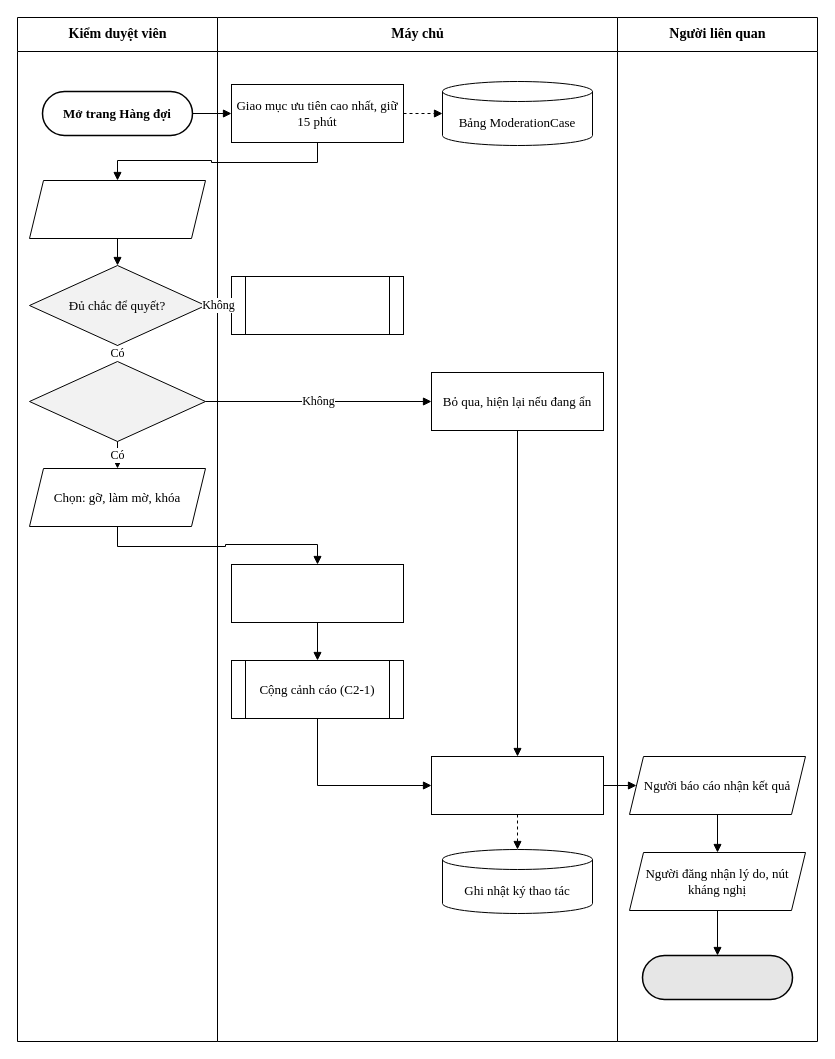
Some shapes in this 835 by 1059 pixel diagram are drawn without their labels. Here are the shapes that lost their labels. From the top down, the box of each, then its label:
(28, 180, 206, 238): Xem nội dung và báo cáo
(230, 276, 404, 334): Quản trị viên quyết thay
(28, 360, 206, 442): Có vi phạm?
(230, 564, 404, 622): Thực hiện hành động
(430, 756, 604, 814): Đóng mọi báo cáo cùng đối tượng
(641, 954, 793, 1000): Mục đã đóng
